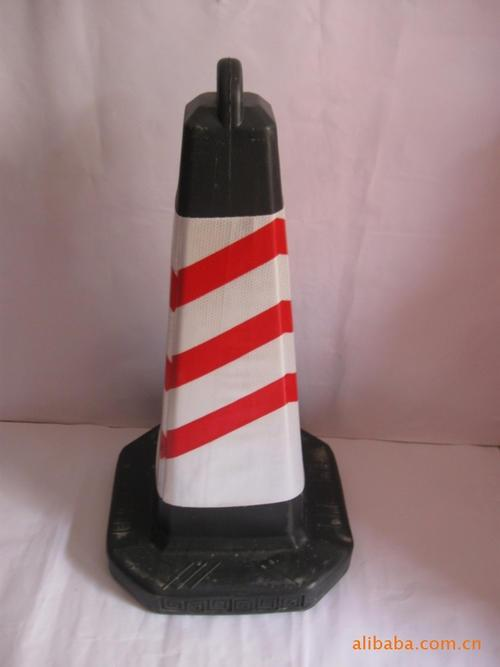cone_barrel: (126, 38, 336, 580)
